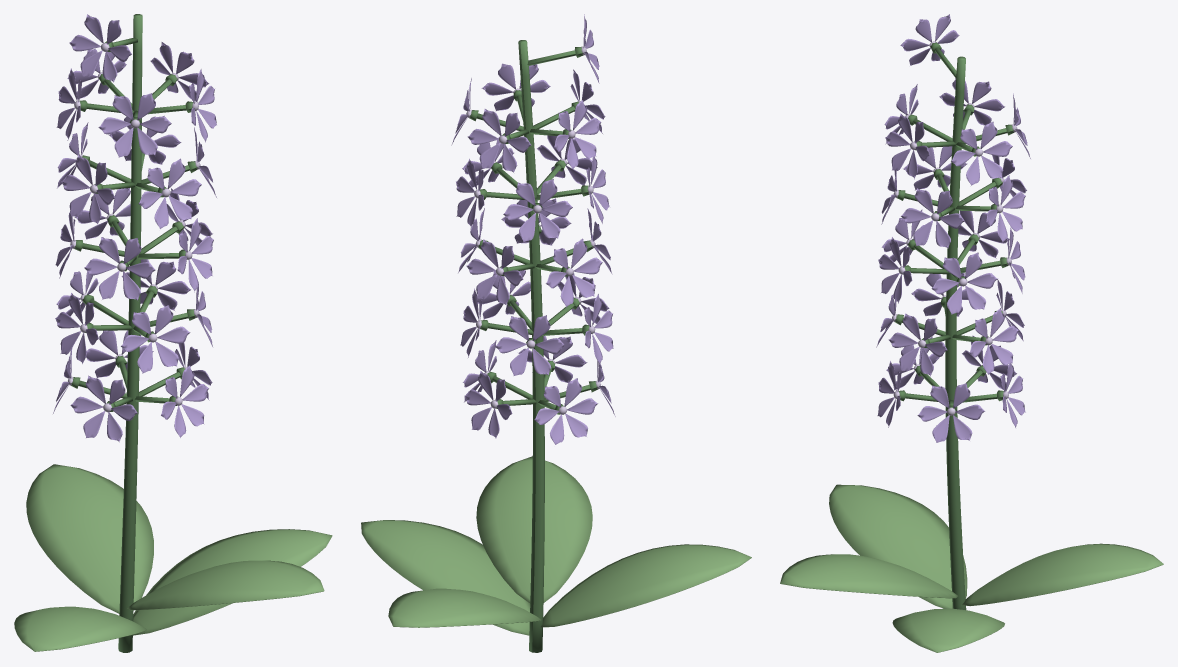
Rendered from hyacinth-fine-v2.glb.
The picture shows the model from 3 angles, left to right: view 1: azimuth 30°, elevation 25°; view 2: azimuth 150°, elevation 25°; view 3: azimuth 270°, elevation 25°; orthographic projection. The views are drawn at different scales.
Visible parts, largest first — view 1: hyacinth-fine-v2-petal, hyacinth-fine-v2-leaf, hyacinth-fine-v2-stem, hyacinth-fine-v2-center; view 2: hyacinth-fine-v2-leaf, hyacinth-fine-v2-petal, hyacinth-fine-v2-stem, hyacinth-fine-v2-center; view 3: hyacinth-fine-v2-petal, hyacinth-fine-v2-leaf, hyacinth-fine-v2-stem, hyacinth-fine-v2-center.
Part boxes in pixels (x1=…): hyacinth-fine-v2-petal: x1=53, y1=14, x2=216, y2=442; hyacinth-fine-v2-leaf: x1=14, y1=464, x2=332, y2=651; hyacinth-fine-v2-stem: x1=71, y1=14, x2=197, y2=652; hyacinth-fine-v2-center: x1=67, y1=43, x2=200, y2=412; hyacinth-fine-v2-leaf: x1=361, y1=456, x2=751, y2=635; hyacinth-fine-v2-petal: x1=451, y1=14, x2=615, y2=444; hyacinth-fine-v2-stem: x1=469, y1=40, x2=597, y2=652; hyacinth-fine-v2-center: x1=466, y1=46, x2=600, y2=414; hyacinth-fine-v2-petal: x1=876, y1=14, x2=1030, y2=442; hyacinth-fine-v2-leaf: x1=780, y1=484, x2=1163, y2=652; hyacinth-fine-v2-stem: x1=895, y1=42, x2=1014, y2=610; hyacinth-fine-v2-center: x1=892, y1=41, x2=1017, y2=415.
Size of the model in its own units: 0.9413 by 1.67 by 0.9609.
